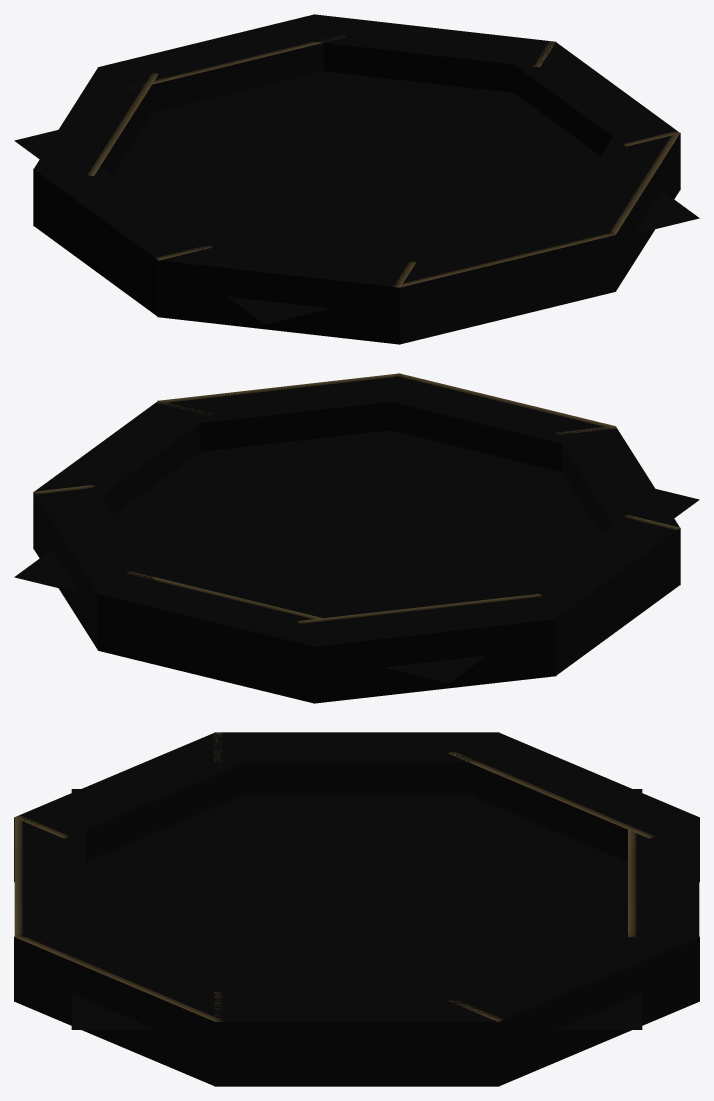
Rendered from hand_sieve.obj.
The picture shows the model from 3 angles, top to bottom: view 1: azimuth 30°, elevation 25°; view 2: azimuth 150°, elevation 25°; view 3: azimuth 270°, elevation 25°; orthographic projection. The views are drawn at different scales.
Visible parts, largest first — view 1: model; view 2: model; view 3: model.
Part boxes in pixels (<box>): model: <box>14,14,699,344</box>; model: <box>14,373,699,703</box>; model: <box>14,732,699,1086</box>.
Size of the model in its own units: 0.601 by 0.0625 by 0.601.
